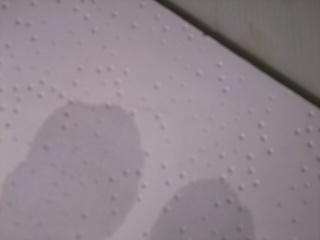Water_detected: (29, 118, 129, 236), (153, 197, 213, 240)
